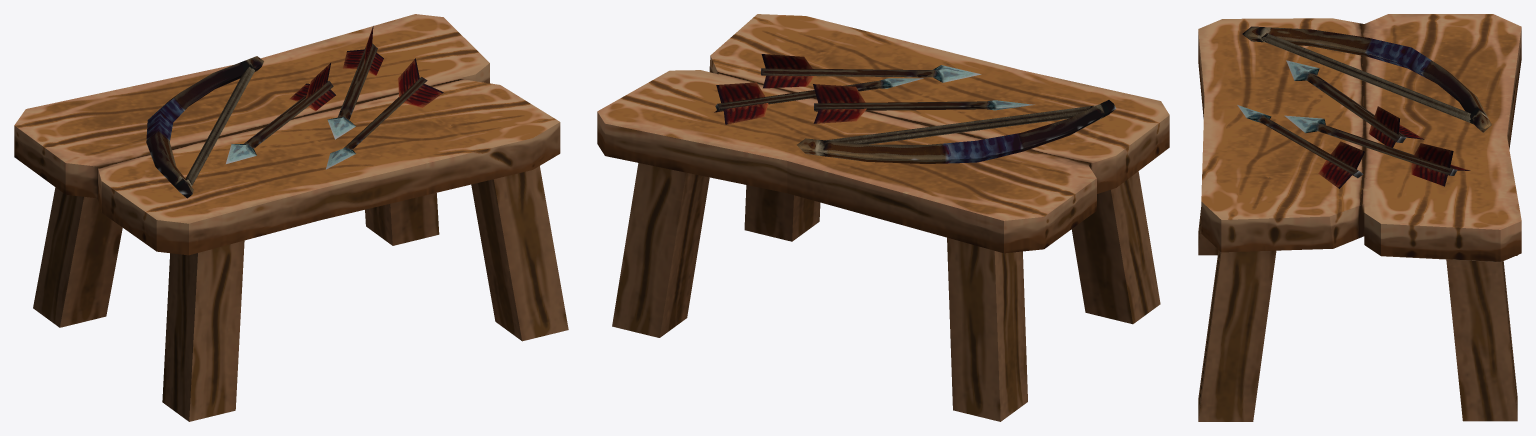
File: Table_3.fbx
3 views of the same model, side by side, from view 1: azimuth 30°, elevation 25°; view 2: azimuth 150°, elevation 25°; view 3: azimuth 270°, elevation 25° (orthographic). The views are drawn at different scales.
Parts seen in each view (by area): view 1: Table_3; view 2: Table_3; view 3: Table_3.
Part boxes in pixels (bbox=[...]): Table_3: bbox=[14, 14, 568, 421]; Table_3: bbox=[597, 14, 1169, 421]; Table_3: bbox=[1198, 14, 1521, 421].
Size of the model in its own units: 2.56 by 1.3 by 1.62.
